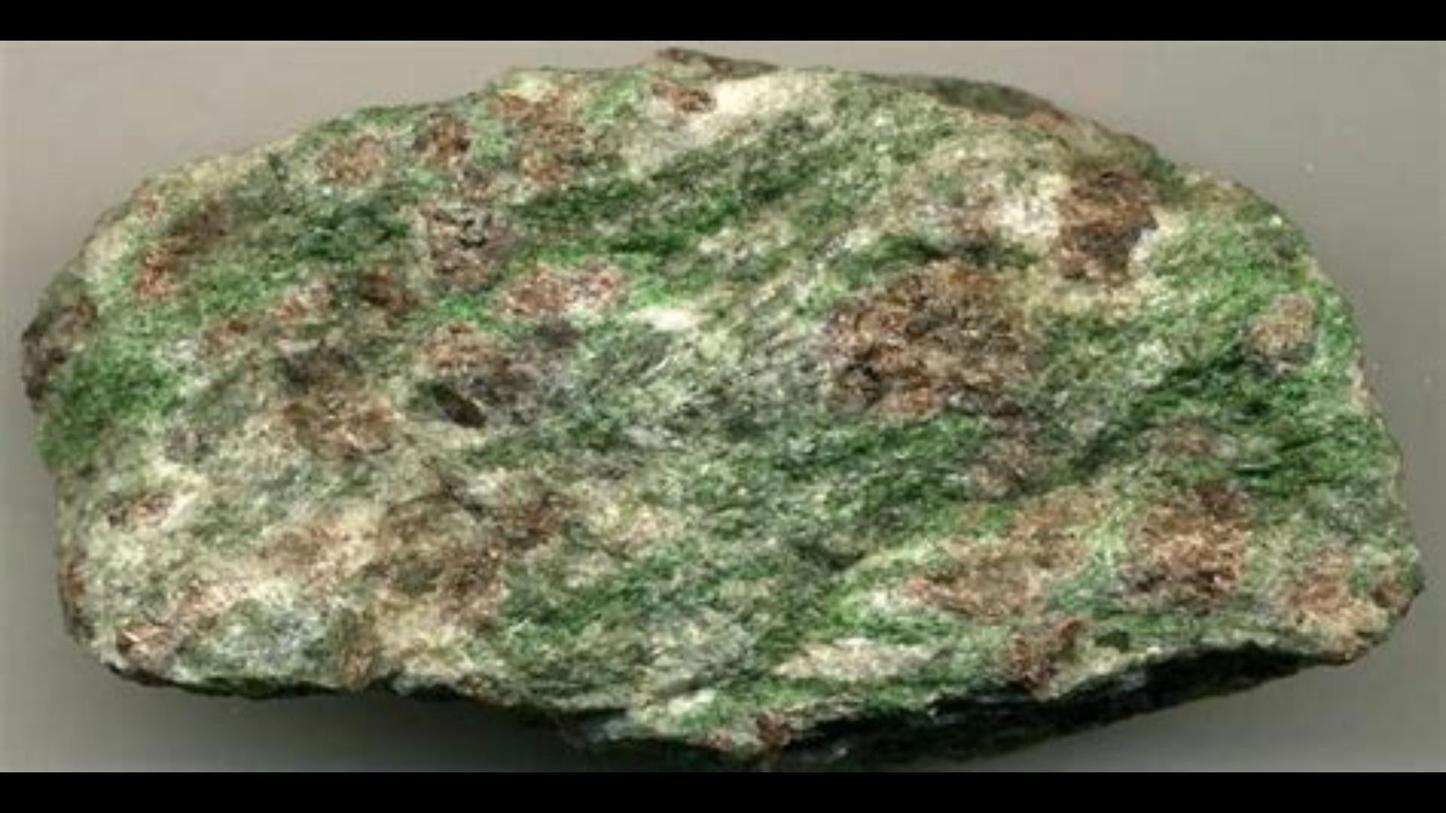rock: (24, 53, 1412, 748)
